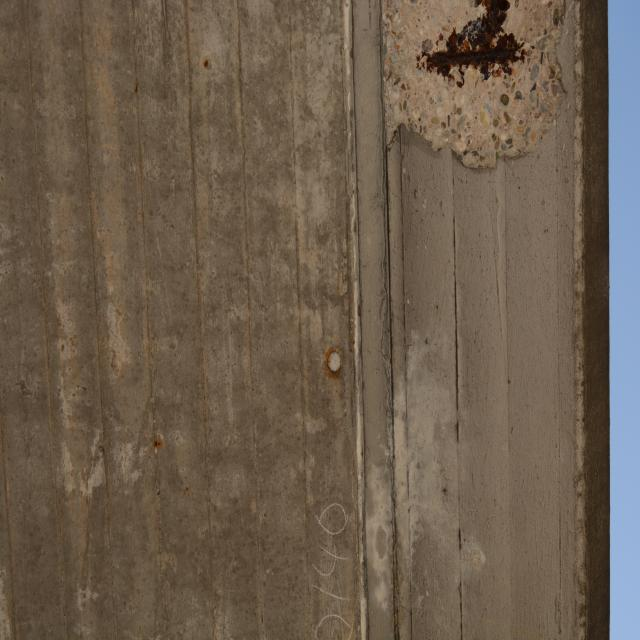corrosion: (417, 0, 539, 91), (324, 345, 342, 377), (202, 54, 210, 71), (153, 439, 163, 449), (133, 82, 140, 95), (185, 485, 189, 494)
